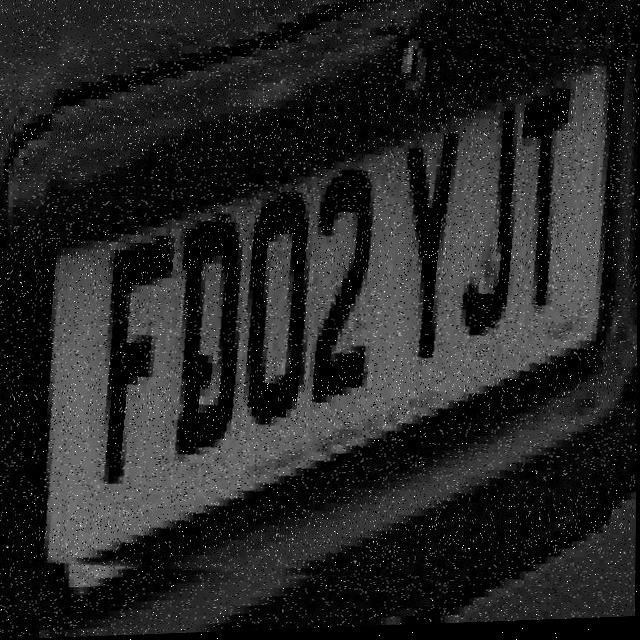LicensePlate: (22, 15, 640, 600)
